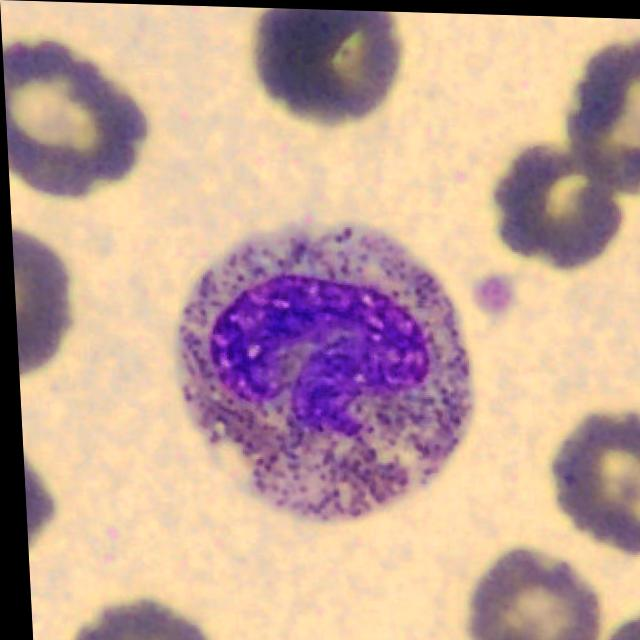Neutrofilo segmentado: (172, 219, 470, 518)
